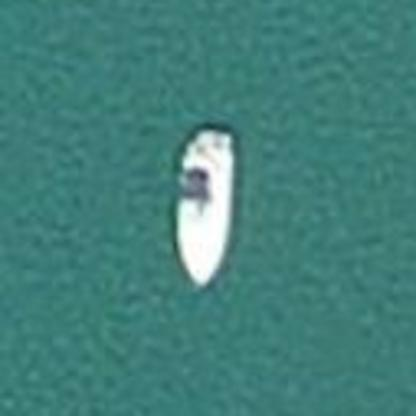ship: (158, 114, 245, 296)
